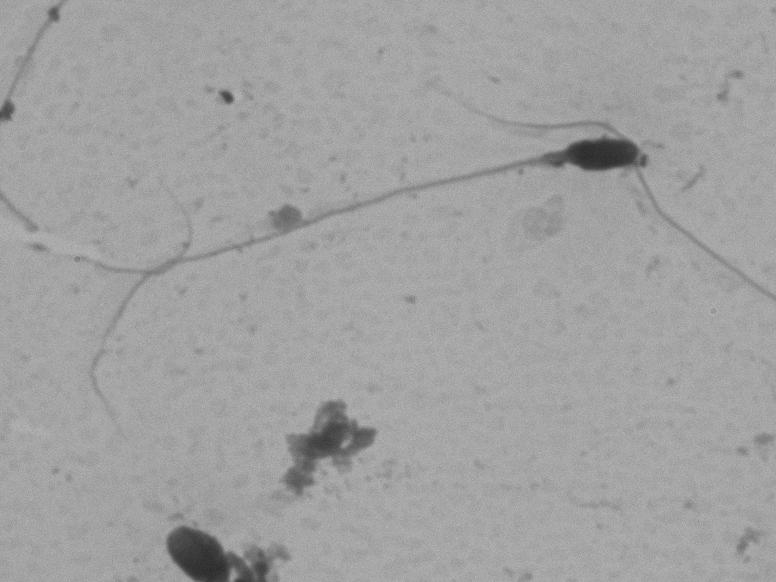Abnormal: (83, 115, 652, 438)
